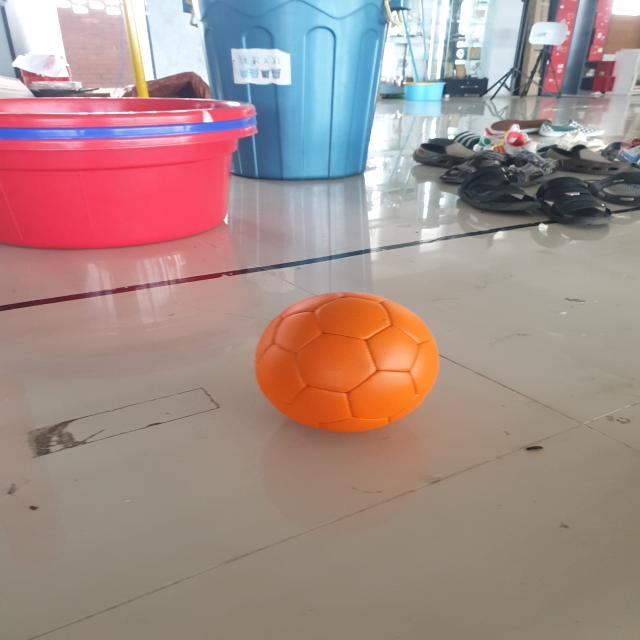bola: (247, 286, 446, 440)
